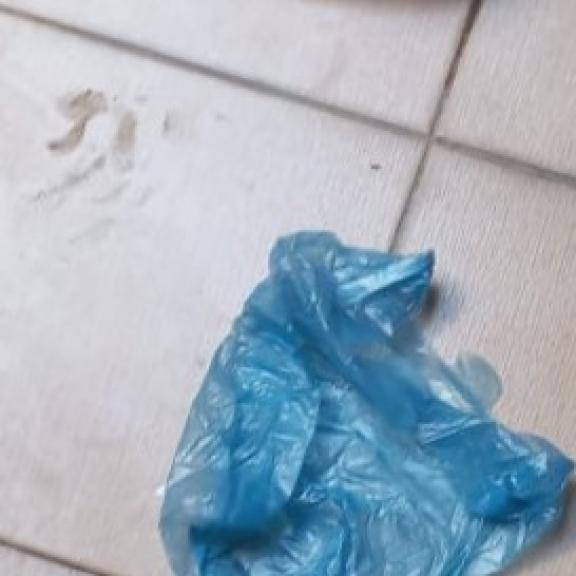Plastik: (153, 232, 574, 576)
